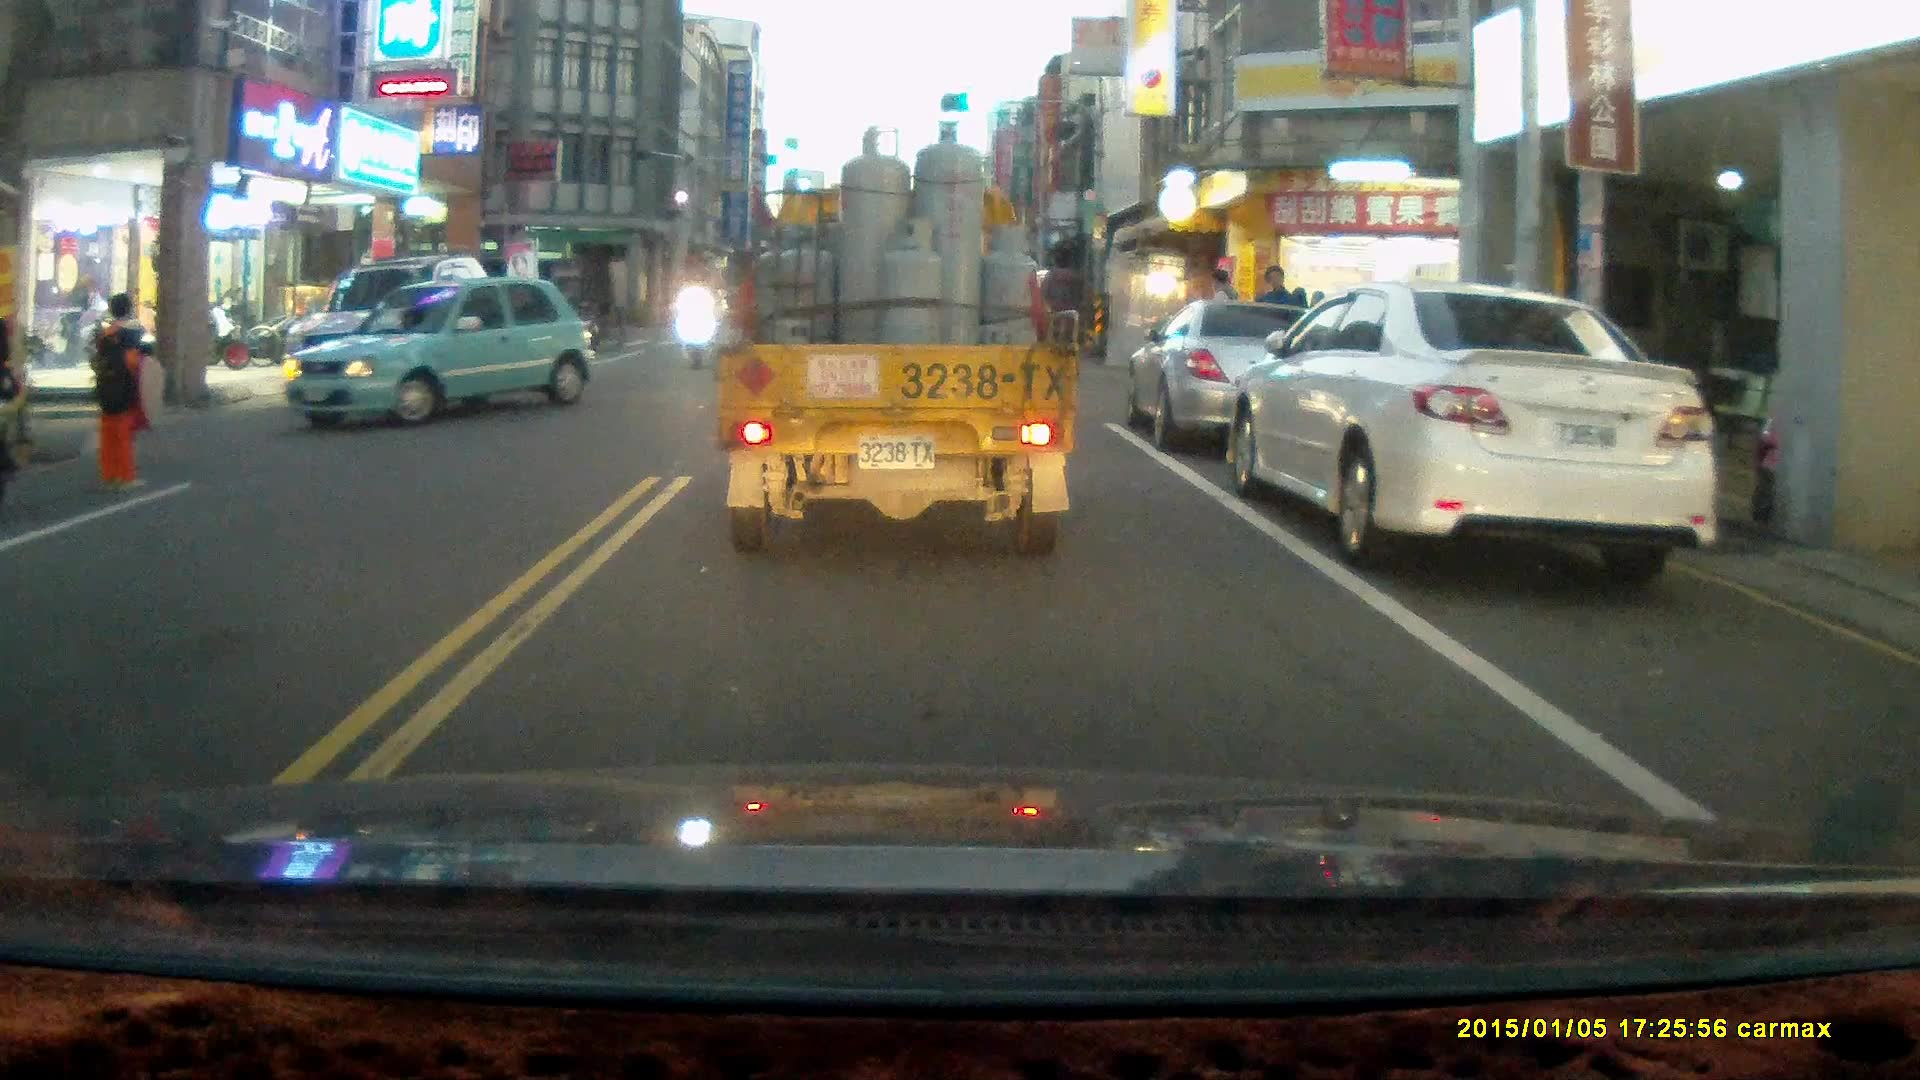pedestrian: (82, 290, 169, 492)
rider: (679, 277, 710, 369)
vehicle: (715, 123, 1077, 559), (1230, 281, 1723, 583), (1128, 297, 1417, 456), (289, 278, 591, 431)
